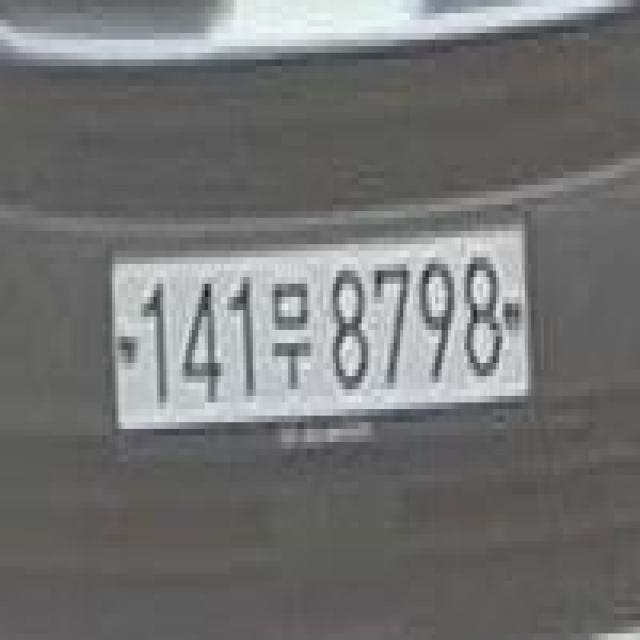illegal_plate: (101, 210, 538, 463)
